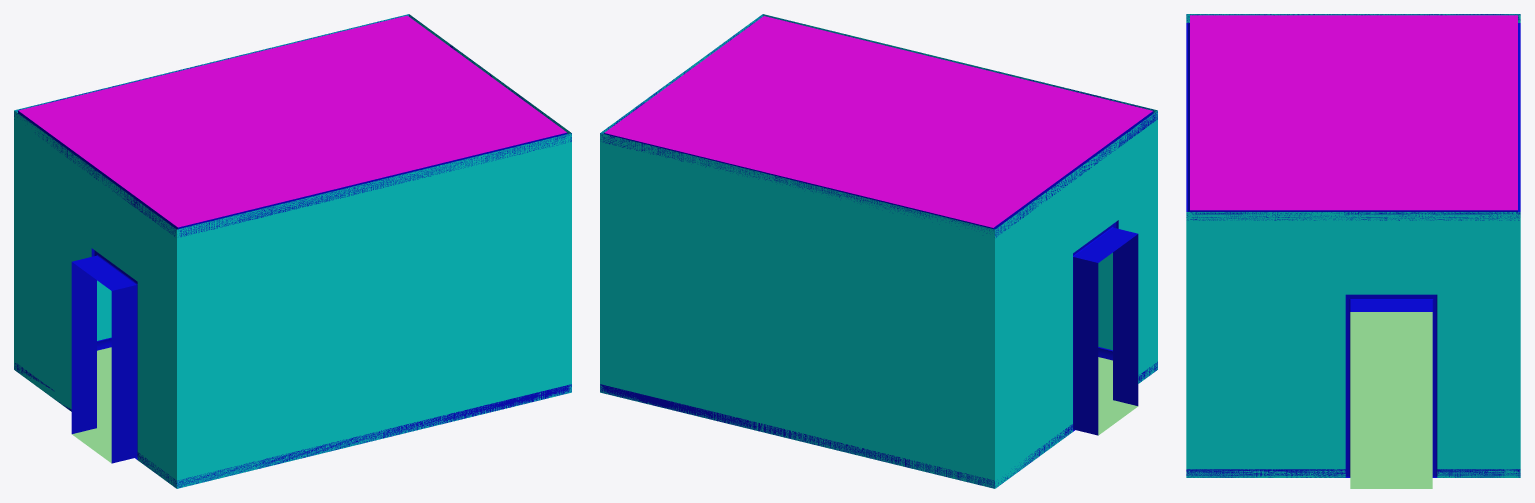
The model's file is Kitchen.fbx.
3 views of the same model, side by side, from view 1: azimuth 30°, elevation 25°; view 2: azimuth 150°, elevation 25°; view 3: azimuth 270°, elevation 25° (orthographic). The views are drawn at different scales.
Parts seen in each view (by area): view 1: Kitchen; view 2: Kitchen; view 3: Kitchen.
Part boxes in pixels (bbox=[...]): Kitchen: bbox=[14, 14, 571, 488]; Kitchen: bbox=[600, 14, 1157, 488]; Kitchen: bbox=[1186, 14, 1520, 488].
Bounding box in the file's own units: 546 × 308 × 350.
